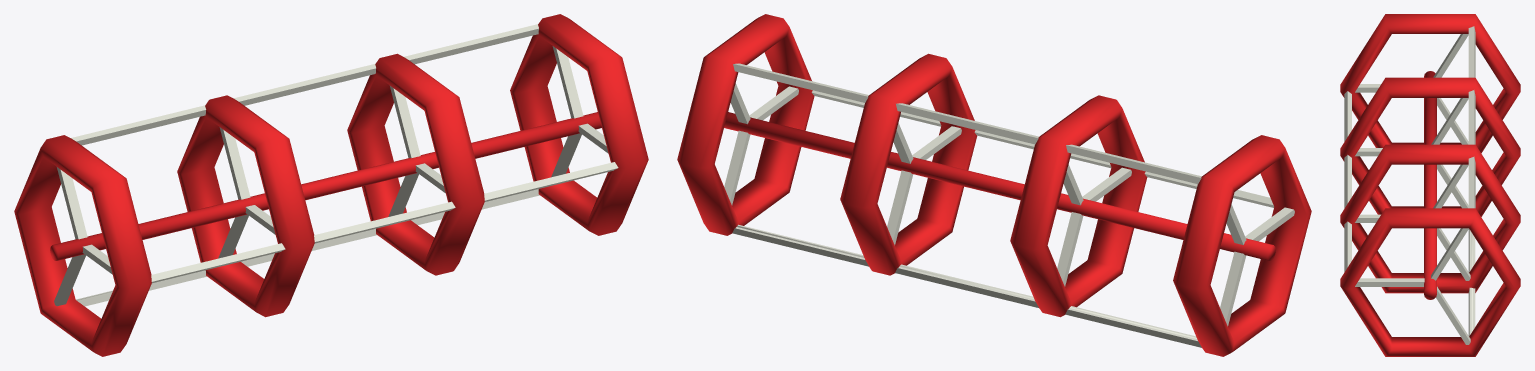
Rendered from Little cylinder (1).fbx.
3 views of the same model, side by side, from view 1: azimuth 30°, elevation 25°; view 2: azimuth 150°, elevation 25°; view 3: azimuth 270°, elevation 25° (orthographic). The views are drawn at different scales.
Parts seen in each view (by area): view 1: Little_cylinder; view 2: Little_cylinder; view 3: Little_cylinder.
Part boxes in pixels (box(x1,y1,x2,y2)): Little_cylinder: box(14, 14, 648, 356); Little_cylinder: box(677, 14, 1311, 356); Little_cylinder: box(1340, 14, 1520, 356).
Bounding box in the file's own units: 2.7 × 0.8223 × 0.9495.
